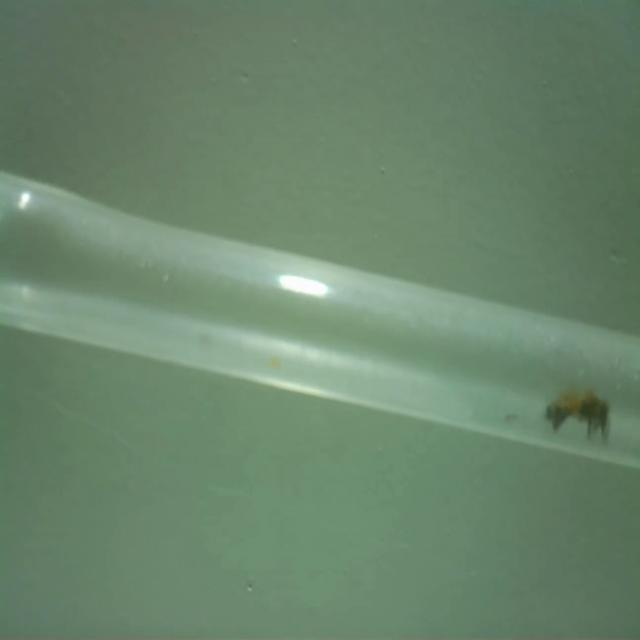Honeybee-Detection: (544, 383, 611, 444)
